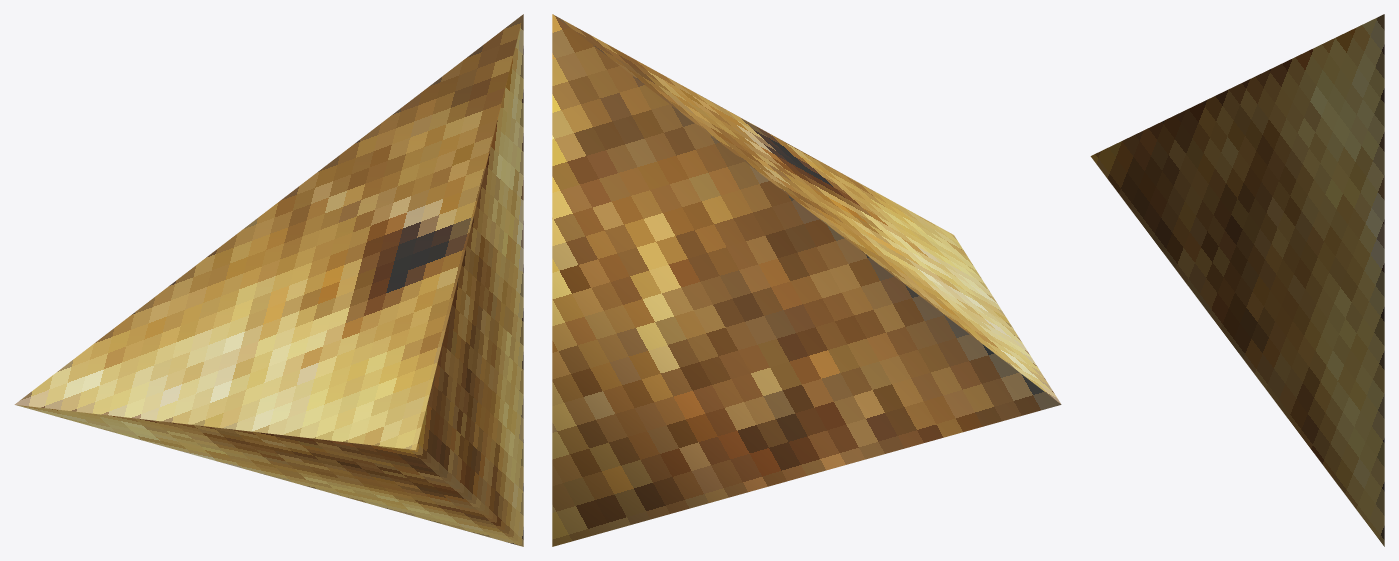
Rendered from IsoPyramidT.fbx.
3 renders of one model, left to right at view 1: azimuth 30°, elevation 25°; view 2: azimuth 150°, elevation 25°; view 3: azimuth 270°, elevation 25°, orthographic.
Parts seen in each view (by area): view 1: IsoPyramid; view 2: IsoPyramid; view 3: IsoPyramid.
Boxes of the visible parts, x1=… form: IsoPyramid: x1=14, y1=14, x2=523, y2=546; IsoPyramid: x1=552, y1=14, x2=1061, y2=546; IsoPyramid: x1=1090, y1=14, x2=1384, y2=546.
Size of the model in its own units: 200 by 200 by 100.
1 material, 1 textured.
